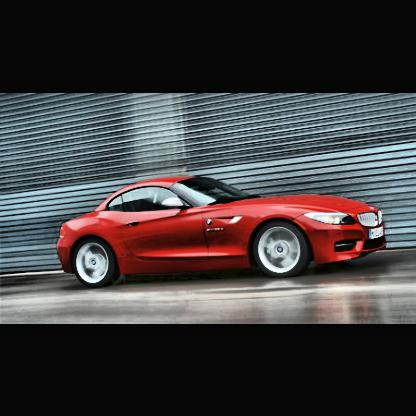BMW Z4 Convertible 2012: (58, 177, 388, 289)
